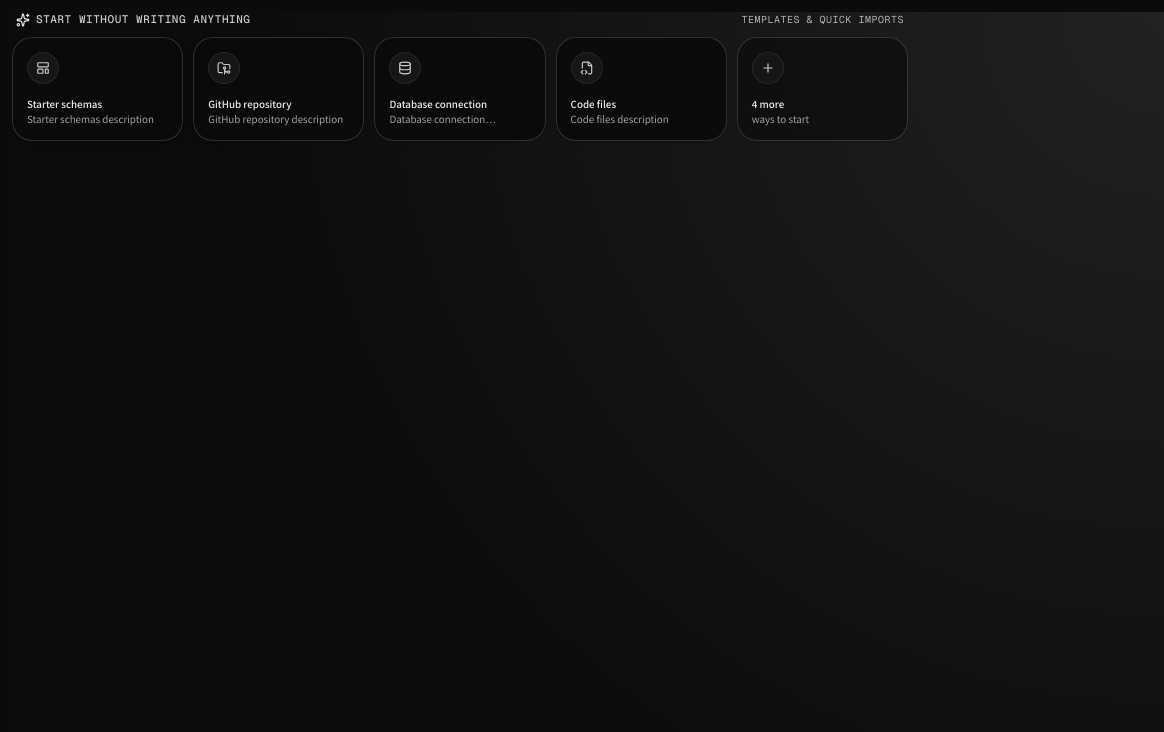
Test case: SourceStrip › never hides a source, however many the server sends
The image size is (1164, 732).
Step 1. Click the button "4 more ways to start" → [822, 89], box [737,37,908,141]
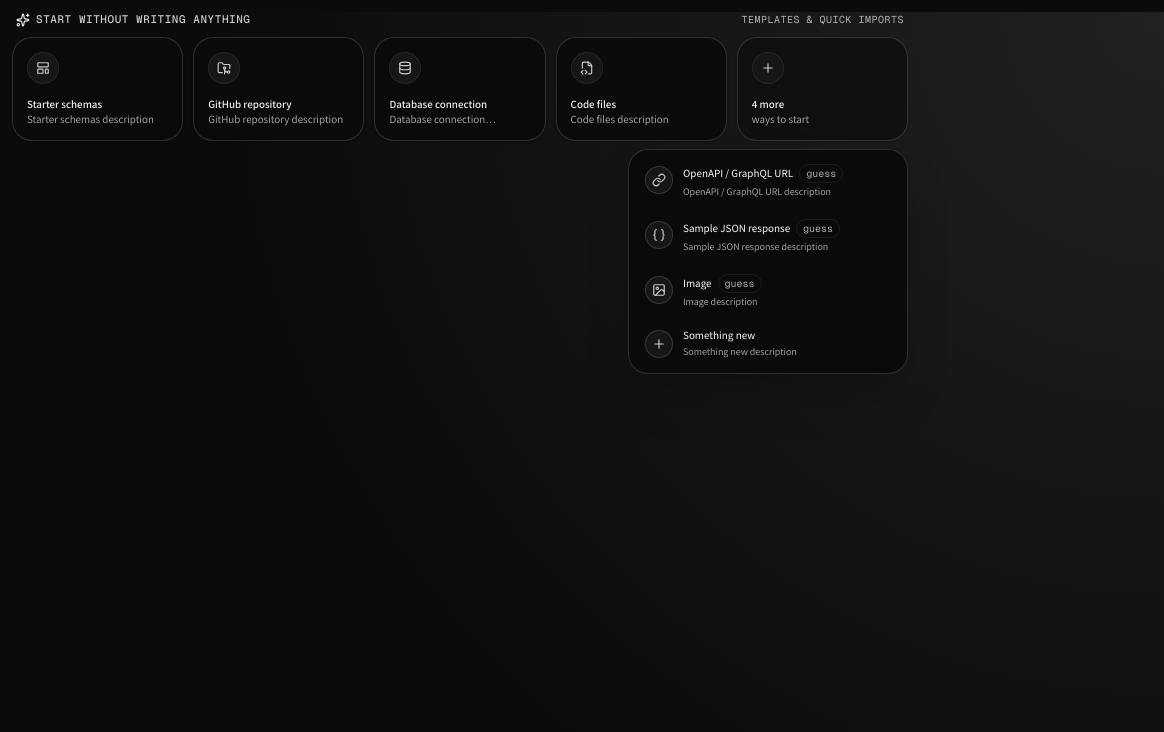
Check: the text "Something new" is shown, box [683,328,755,343]
